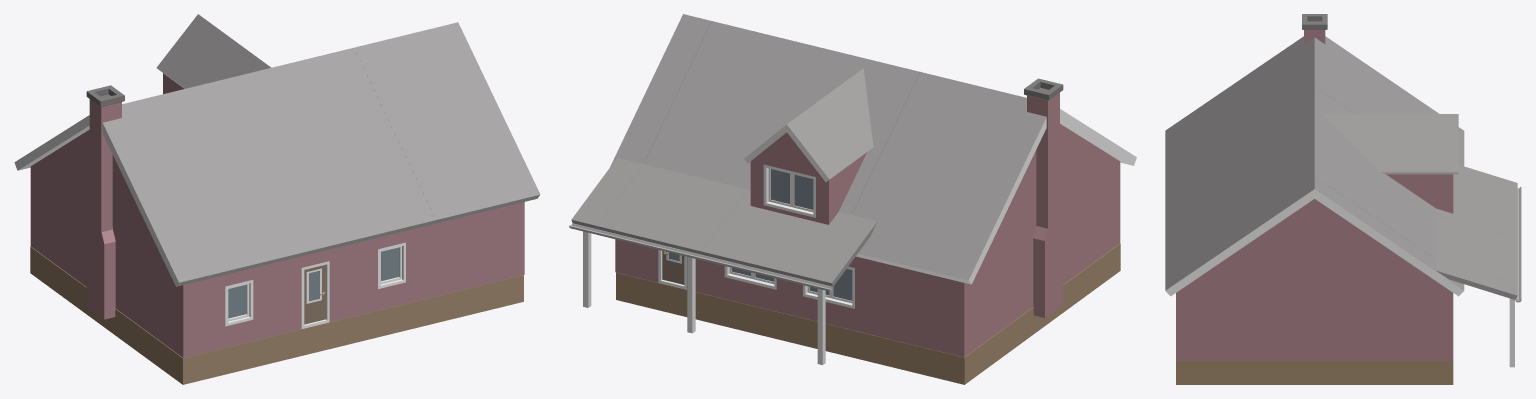
Rendered from House1.fbx.
The picture shows the model from 3 angles, left to right: view 1: azimuth 30°, elevation 25°; view 2: azimuth 150°, elevation 25°; view 3: azimuth 270°, elevation 25°; orthographic projection. The views are drawn at different scales.
Visible parts, largest first — view 1: Cube__11_; view 2: Cube__11_; view 3: Cube__11_.
Boxes of the visible parts, box(x1,y1,x2,y2) form: Cube__11_: box(14, 14, 540, 384); Cube__11_: box(569, 14, 1136, 384); Cube__11_: box(1165, 14, 1521, 384).
Bounding box in the file's own units: 1440 × 890 × 1343.
